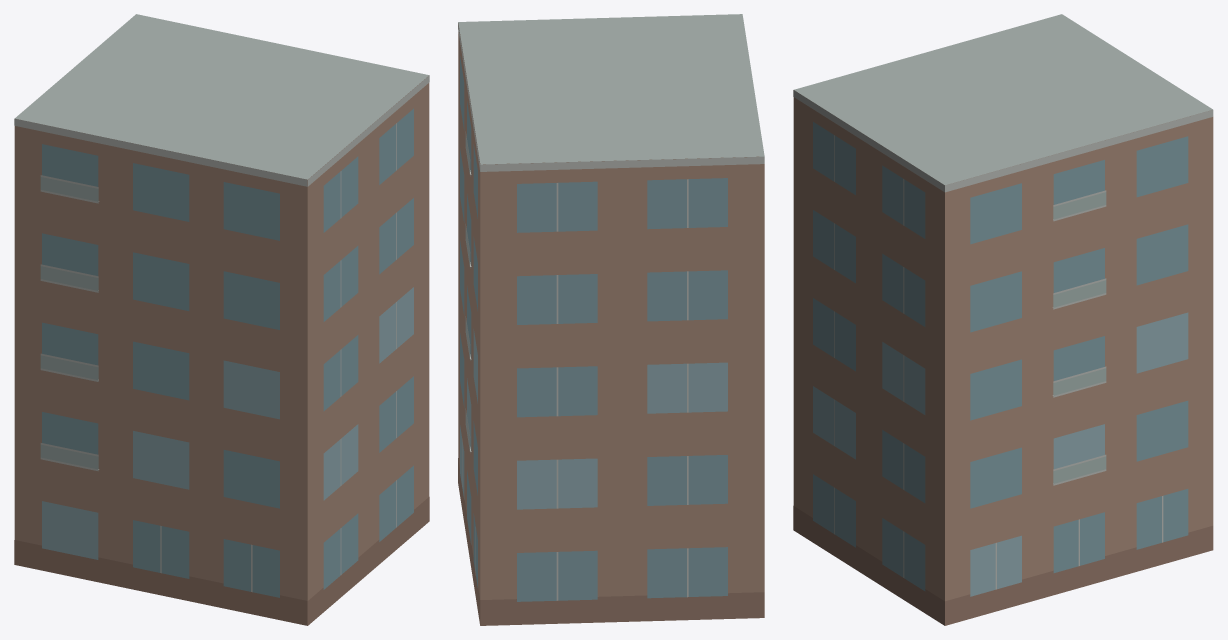
File: survey-upis-33005989.glb
3 views of the same model, side by side, from view 1: azimuth 30°, elevation 25°; view 2: azimuth 150°, elevation 25°; view 3: azimuth 270°, elevation 25° (orthographic). The views are drawn at different scales.
Visible parts, largest first — view 1: survey-upis-33005989.tmp; view 2: survey-upis-33005989.tmp; view 3: survey-upis-33005989.tmp.
Boxes of the visible parts, bbox=[...] form: survey-upis-33005989.tmp: bbox=[14, 14, 429, 625]; survey-upis-33005989.tmp: bbox=[458, 14, 764, 625]; survey-upis-33005989.tmp: bbox=[793, 14, 1213, 625].
Bounding box in the file's own units: 12.56 × 15.05 × 13.
